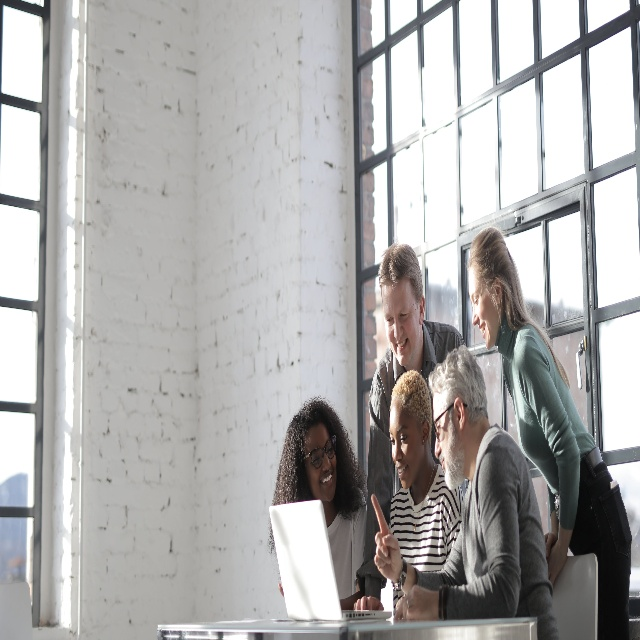Gafas: (432, 402, 468, 433), (309, 438, 335, 470)
Sin_guantes: (370, 490, 400, 580), (394, 581, 442, 620), (544, 541, 568, 583), (353, 593, 385, 612), (543, 529, 555, 555)
